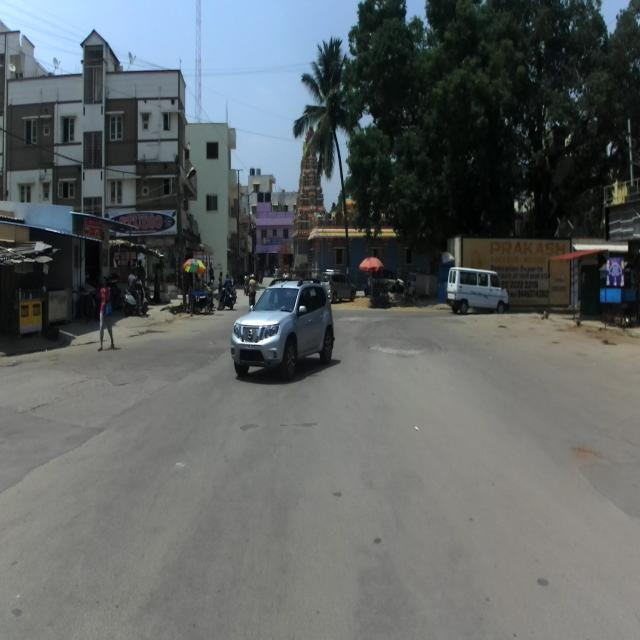car ahead at: (233, 271, 337, 380)
